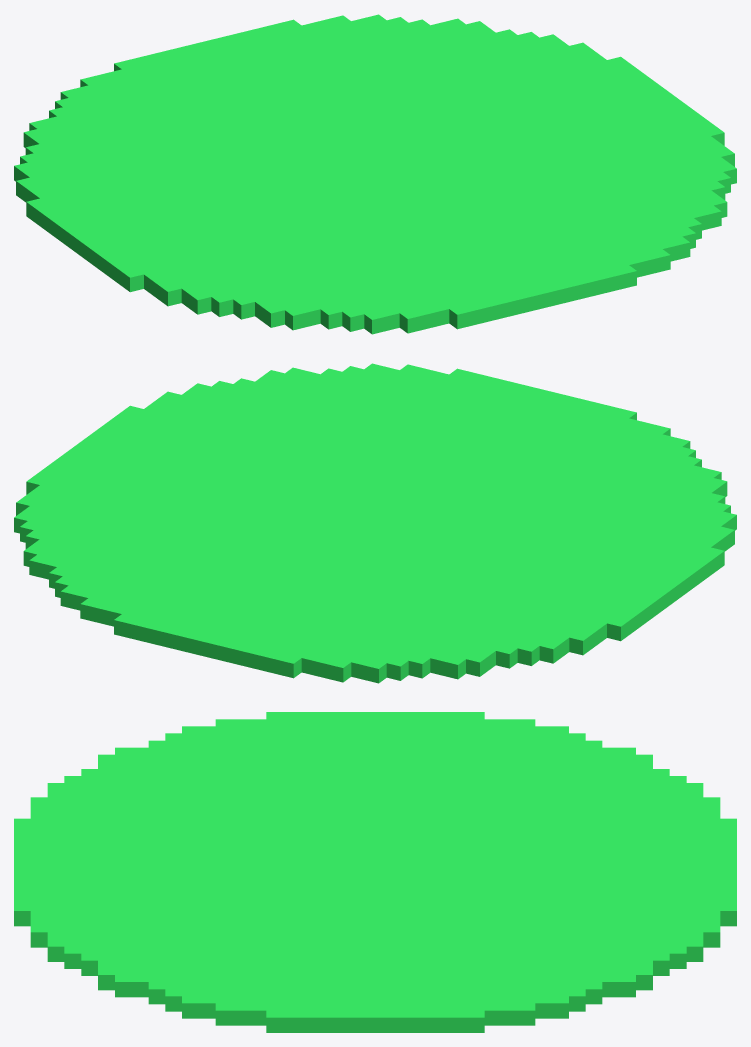
Rendered from Pea.obj.
3 renders of one model, top to bottom at view 1: azimuth 30°, elevation 25°; view 2: azimuth 150°, elevation 25°; view 3: azimuth 270°, elevation 25°, orthographic. The views are drawn at different scales.
Size of the model in its own units: 43 by 1 by 43.
Materials: 1 (1 with a texture image).
